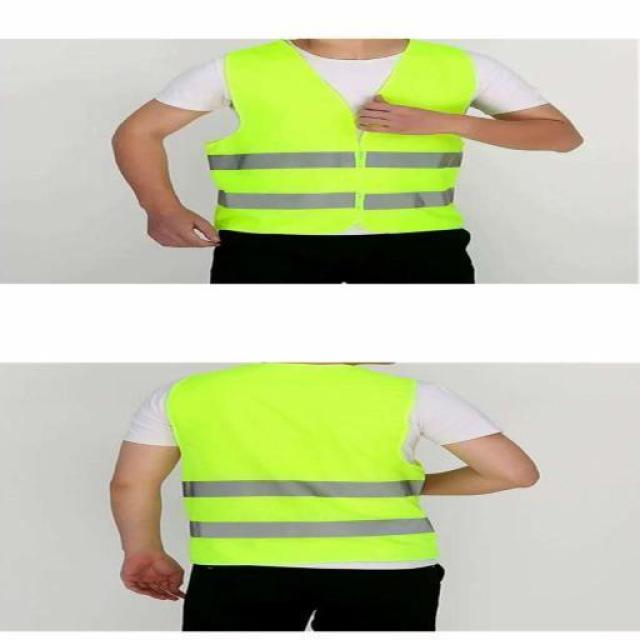hand_noglove: (136, 199, 228, 259), (110, 545, 192, 604), (347, 88, 423, 146)
vest: (156, 368, 446, 564), (220, 45, 484, 235)
